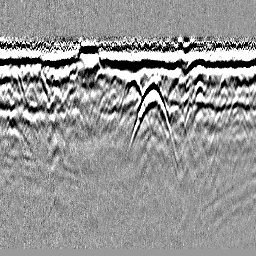cavity: (120, 74, 143, 104)
